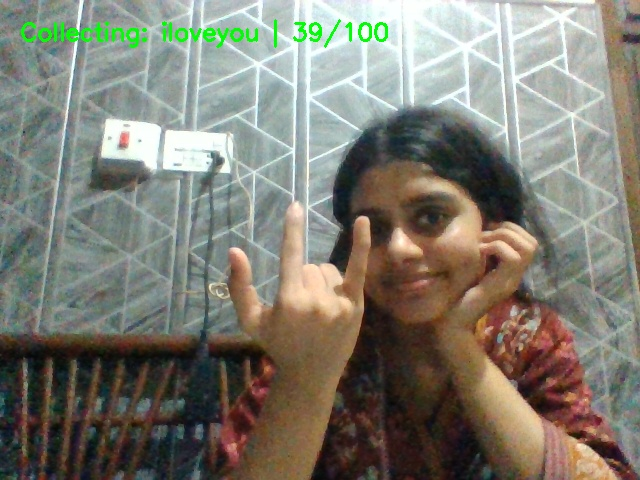iloveyou: (222, 191, 391, 403)
